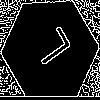L: (25, 25, 73, 73)
